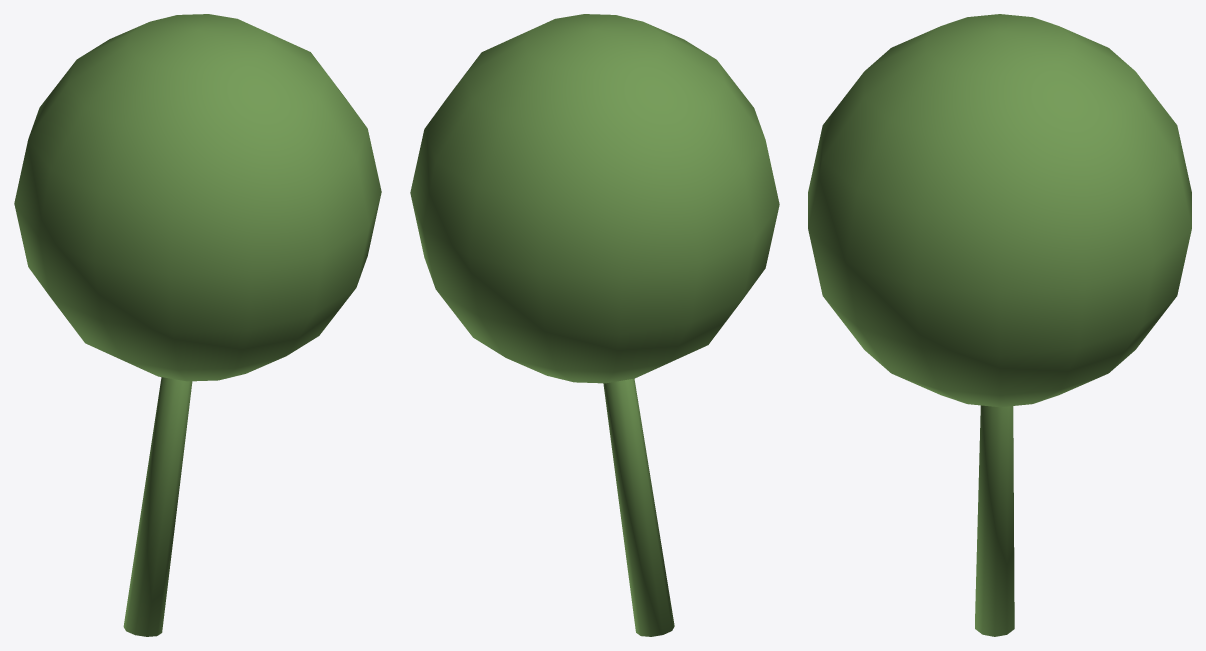
Rendered from giant_dandelion_collision.glb.
The picture shows the model from 3 angles, left to right: view 1: azimuth 30°, elevation 25°; view 2: azimuth 150°, elevation 25°; view 3: azimuth 270°, elevation 25°; orthographic projection. The views are drawn at different scales.
Parts seen in each view (by area): view 1: GiantDandelionCollision; view 2: GiantDandelionCollision; view 3: GiantDandelionCollision.
Part boxes in pixels (x1,y1,x2,y2): GiantDandelionCollision: (14, 14, 381, 636); GiantDandelionCollision: (410, 14, 779, 636); GiantDandelionCollision: (808, 14, 1191, 636).
Size of the model in its own units: 6.04 by 10.6 by 5.89.
